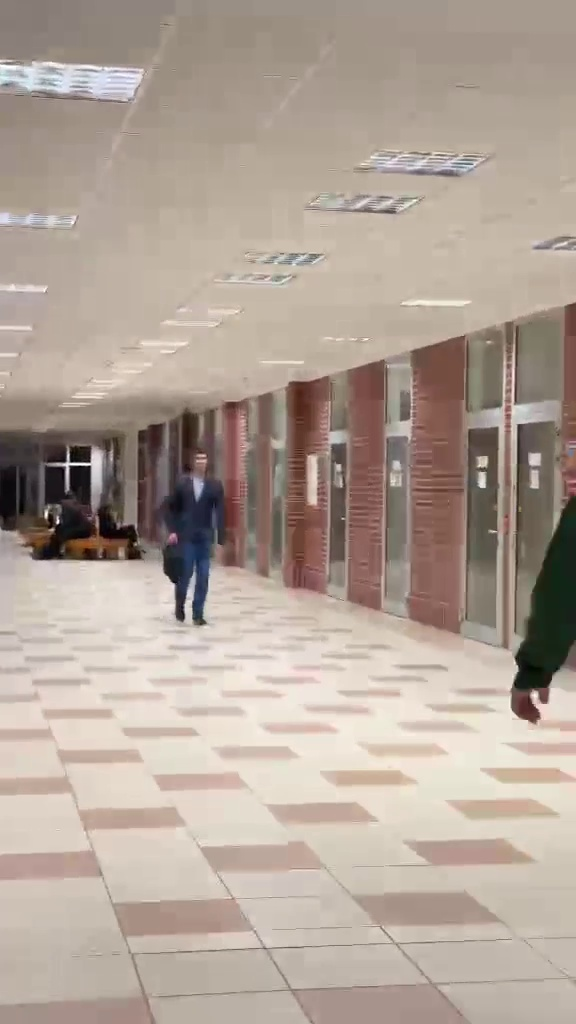no vest: (160, 439, 230, 638)
